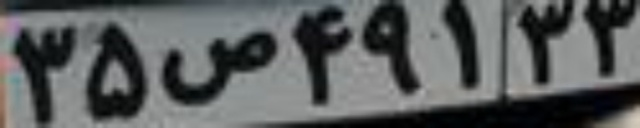1: (440, 1, 481, 89)
3: (14, 27, 74, 122), (520, 2, 575, 84), (584, 1, 638, 75)
4: (293, 8, 354, 104)
5: (85, 24, 152, 115)
9: (358, 3, 420, 94)
saat: (165, 31, 274, 103)
